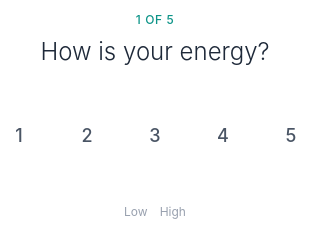
VitalsStep › advances to the next vital after selecting
Click the button named "Rating 3 of 5" at {"x": 155, "y": 136}, box [127, 108, 183, 164]
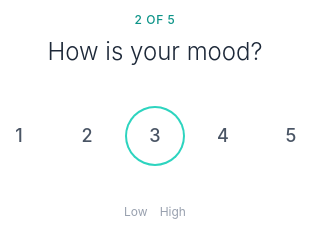
Expected: the heading "How is your mood?" is shown, [48, 36, 263, 68]
